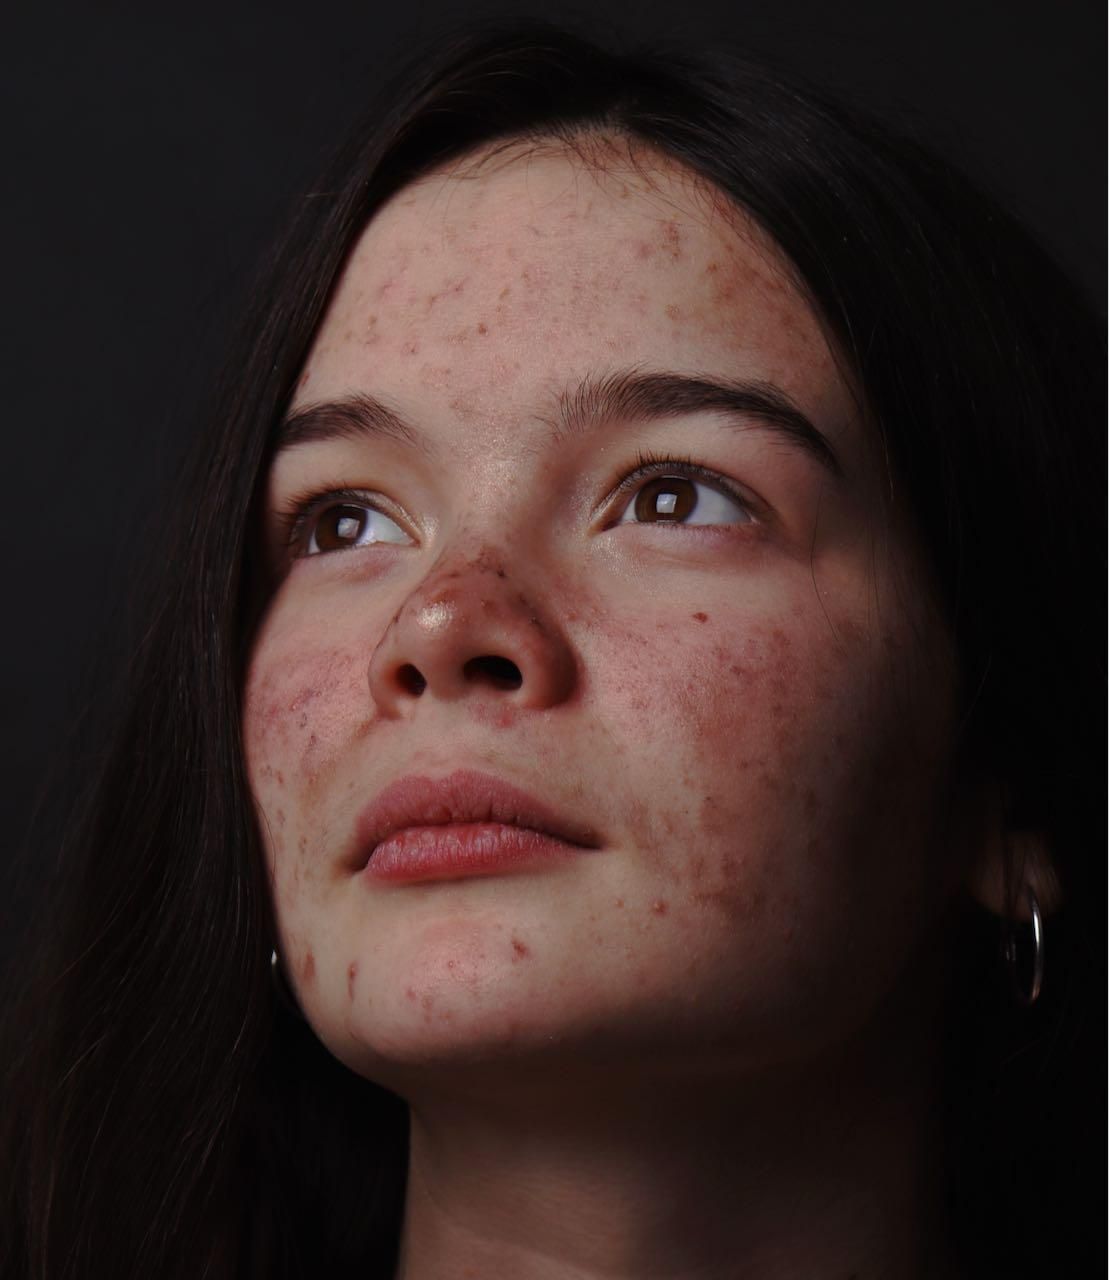Acne: (407, 526, 840, 982), (234, 508, 441, 1009), (311, 185, 821, 383), (307, 919, 642, 1037)
